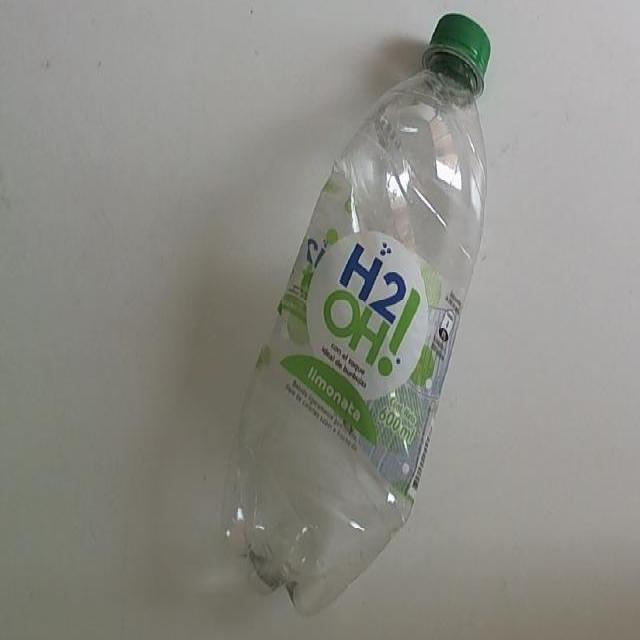defect: (219, 5, 494, 622)
